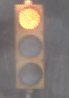Red: (11, 4, 50, 95)
